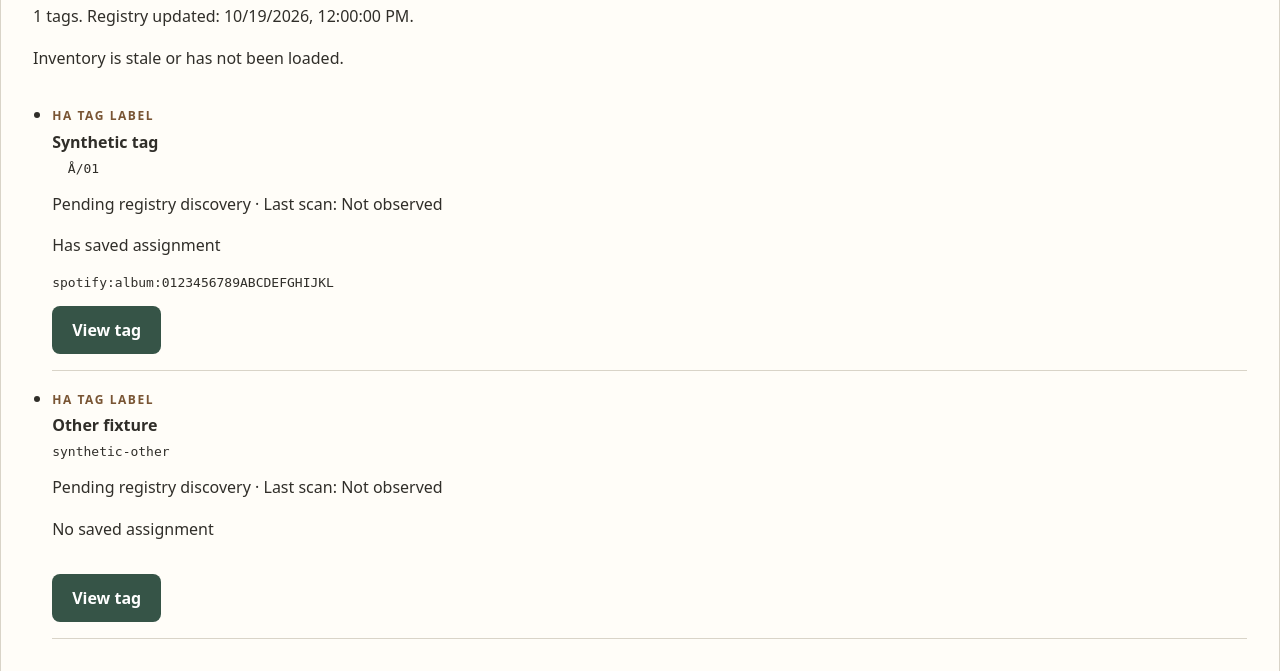
Scenario: aborts and ignores late metadata after selecting another tag
The image size is (1280, 671).
(page scrolled)
Expected: the text "Synthetic tag" is shown, [52,131,158,153]
Click the button with aria-label "View tag Synthetic tag": point(107, 330) [52,306,161,354]
(page scrolled)
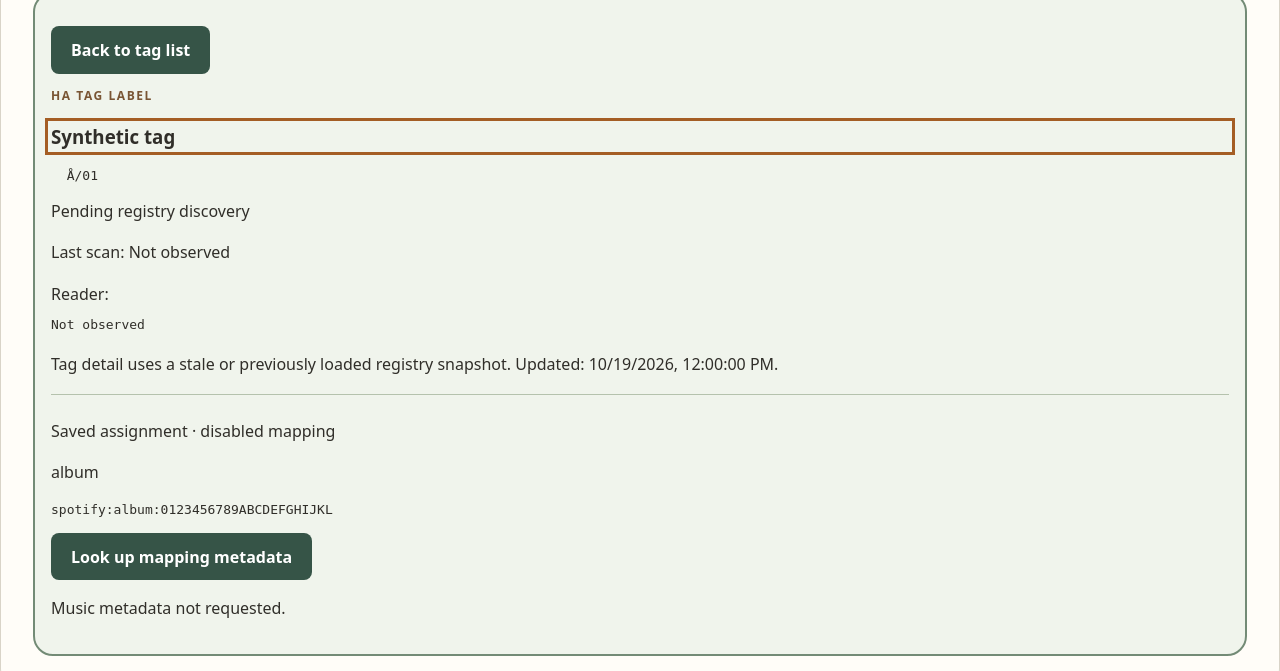
Click the button "Look up mapping metadata": point(182, 557) [51,533,312,580]
(page scrolled)
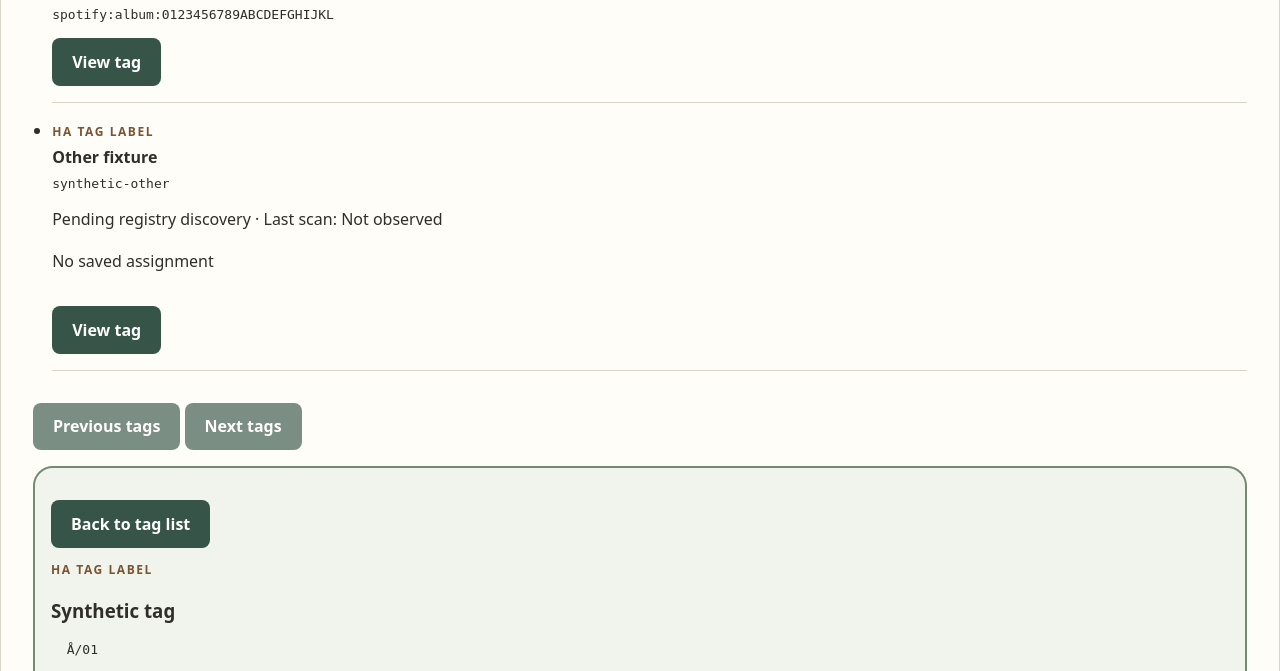
Click the button with aria-label "View tag Other fixture": point(107, 330) [52,306,161,354]
(page scrolled)
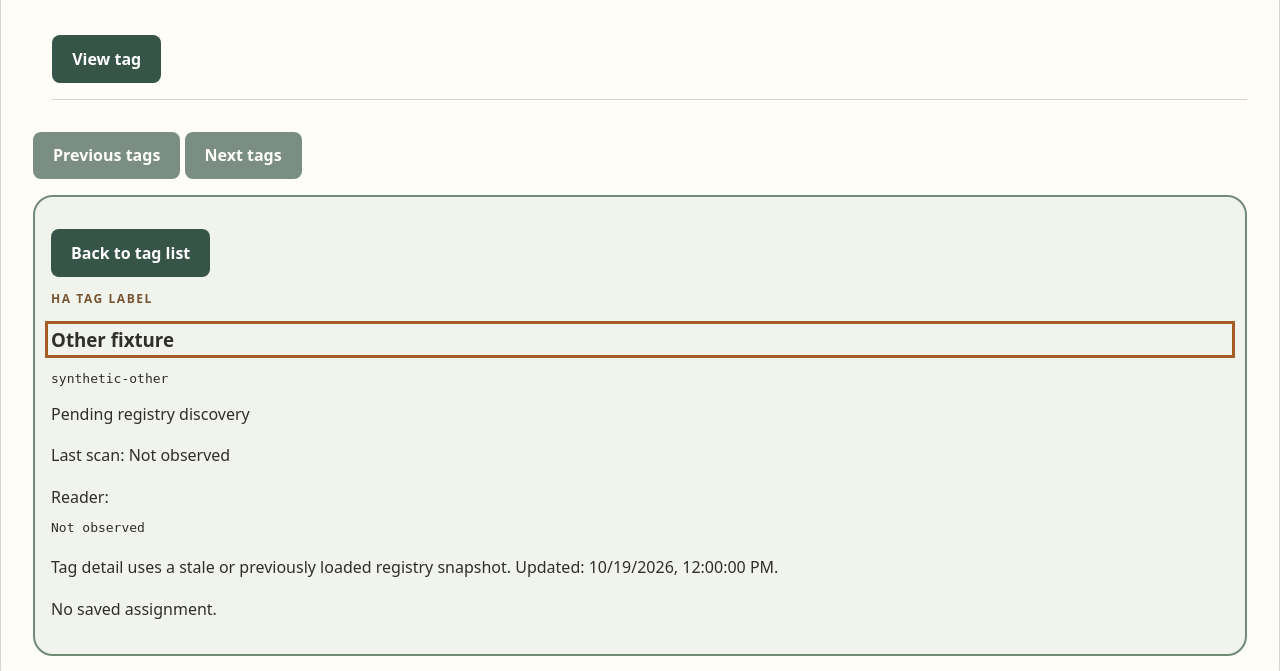
Expected: the element named "Tag detail" shows "No saved assignment", [51,598,217,620]
